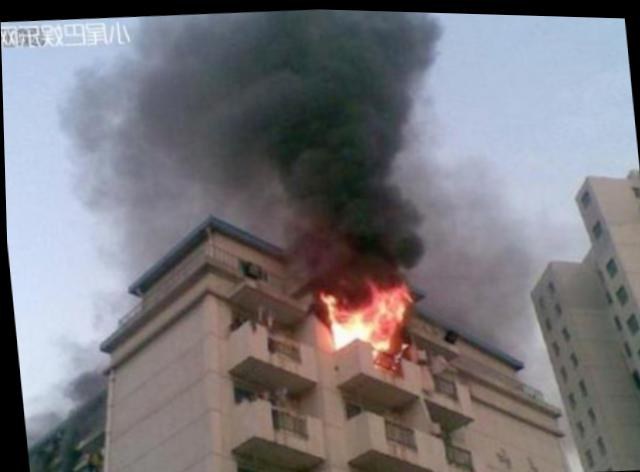fire: (371, 281, 415, 349), (327, 302, 375, 345)
